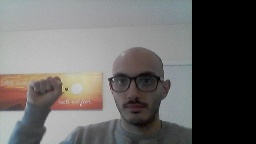Pugno: (23, 74, 65, 107)
